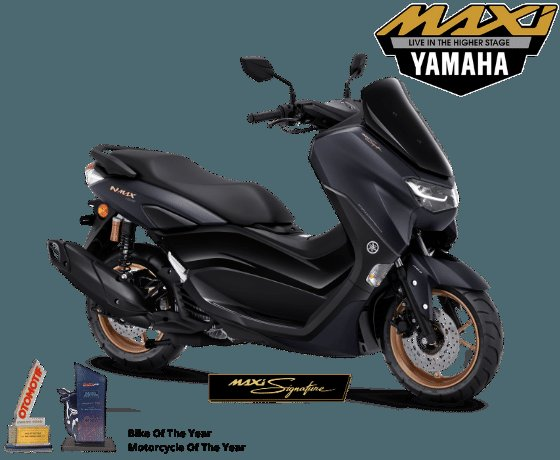motor: (49, 79, 506, 401)
